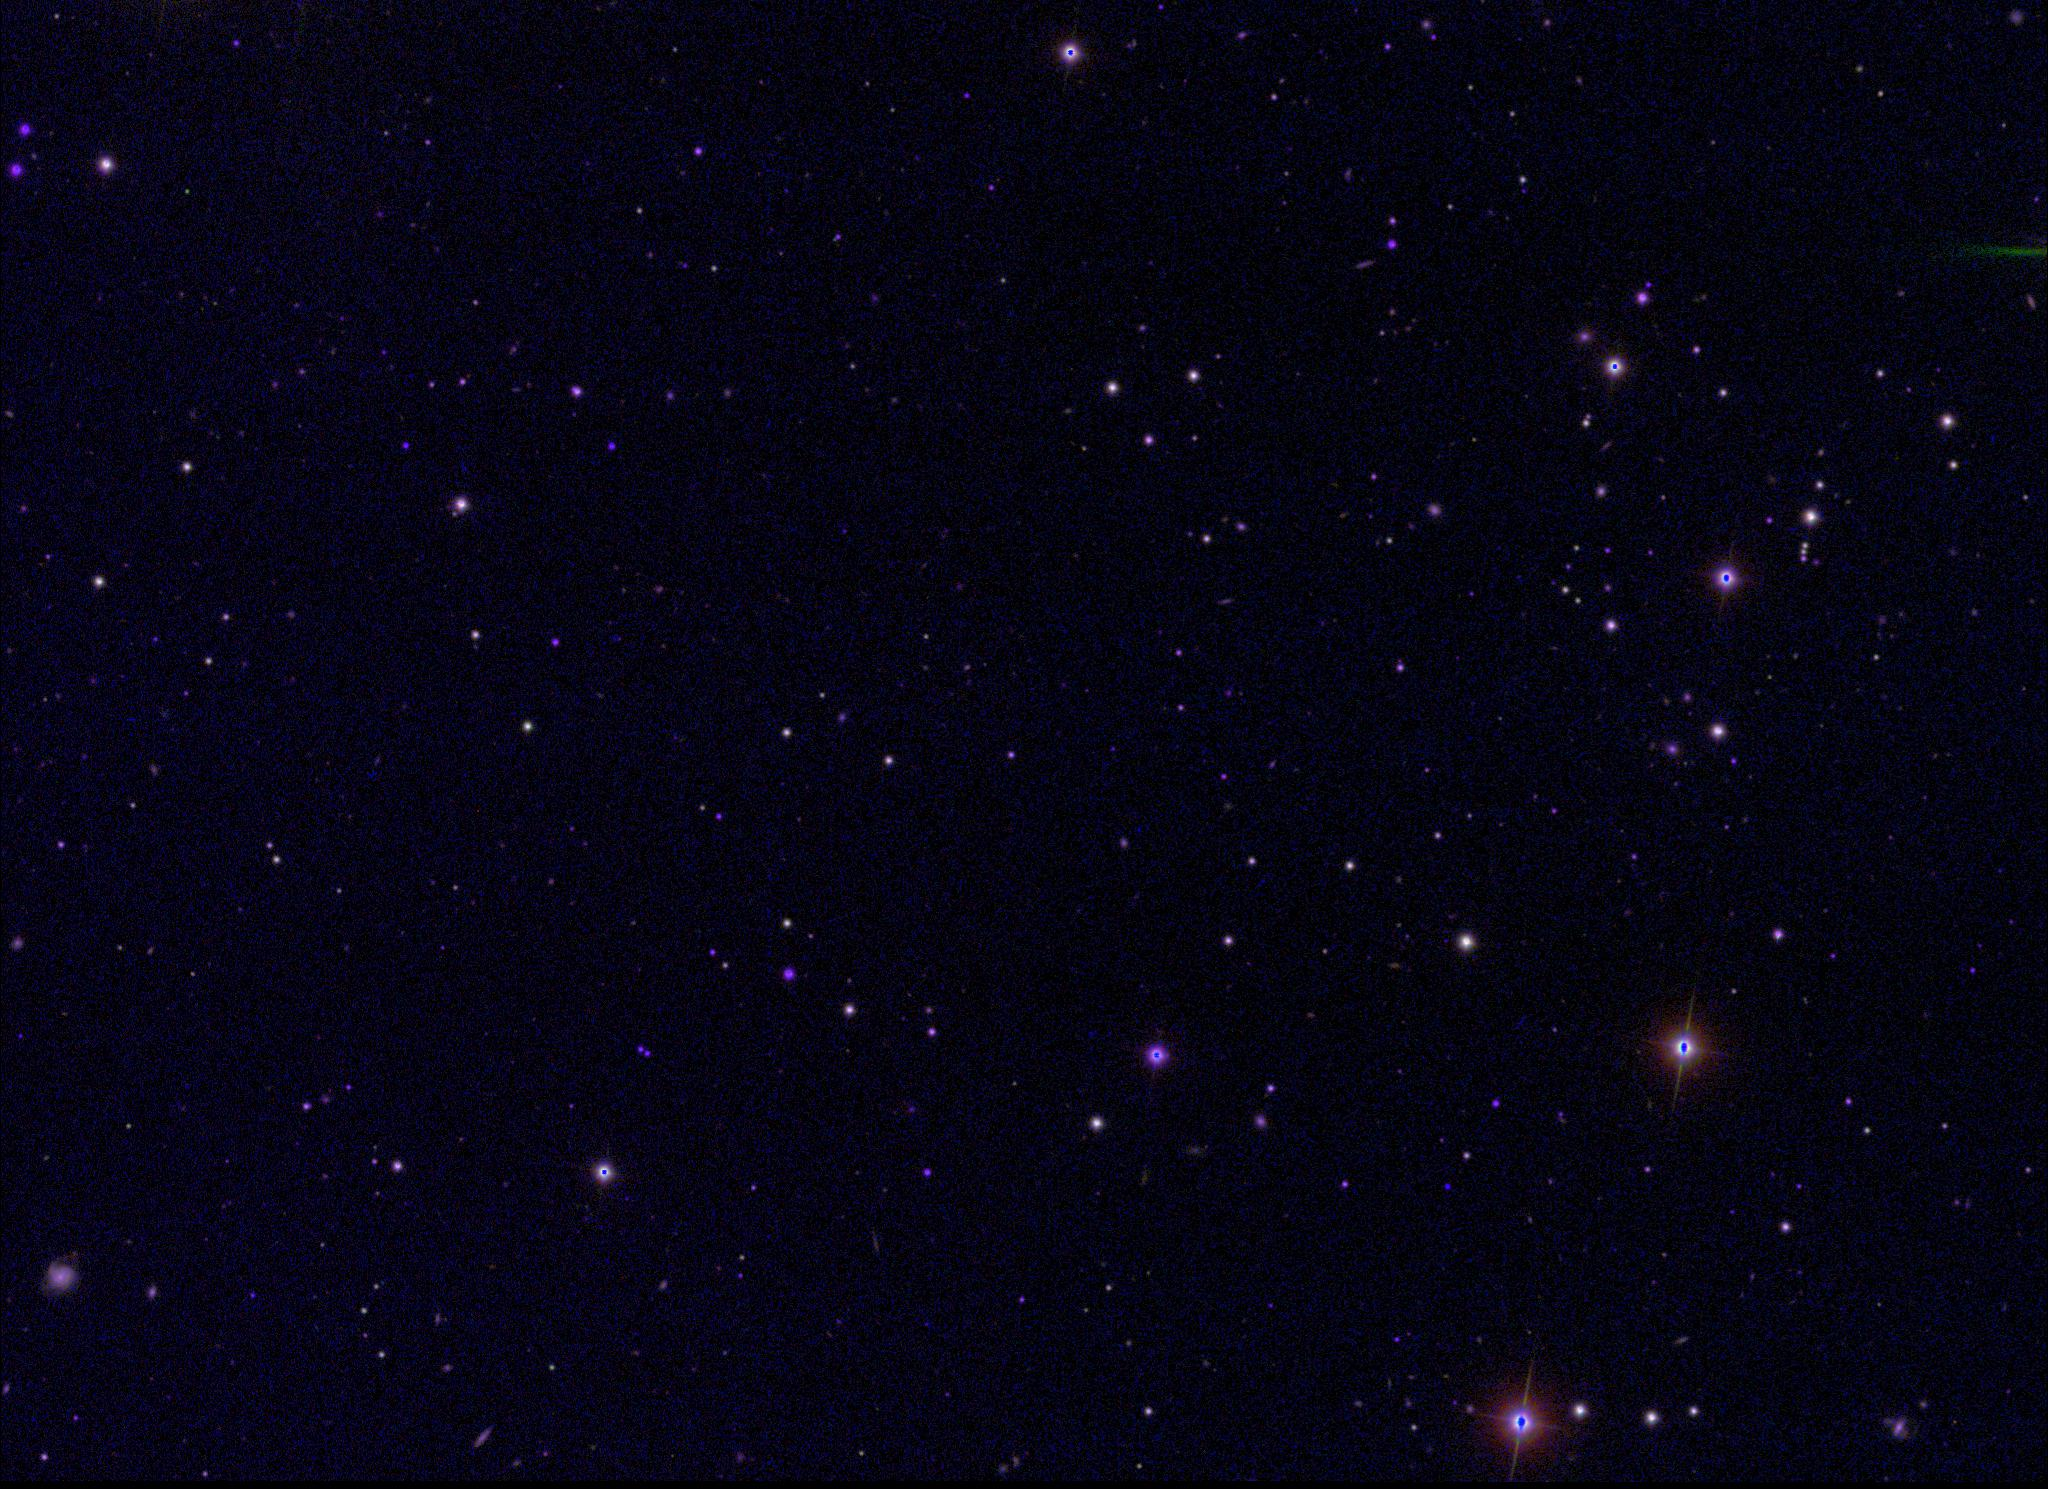L: (1439, 1179, 1453, 1193)
